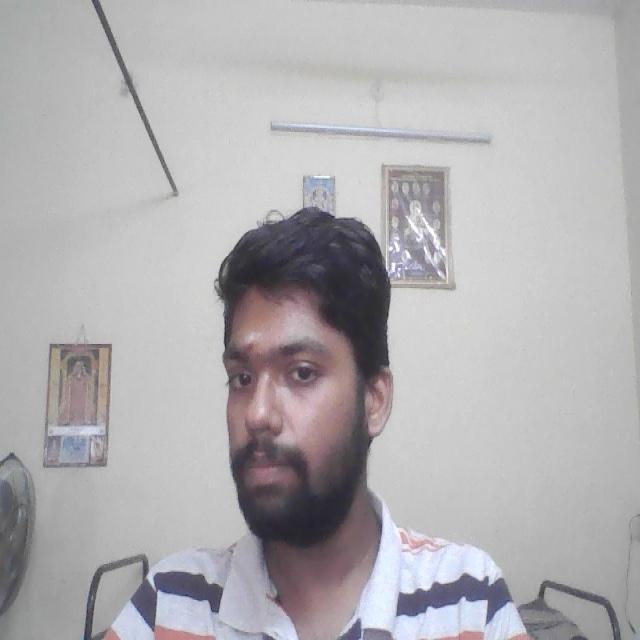Focused: (220, 304, 352, 506)
